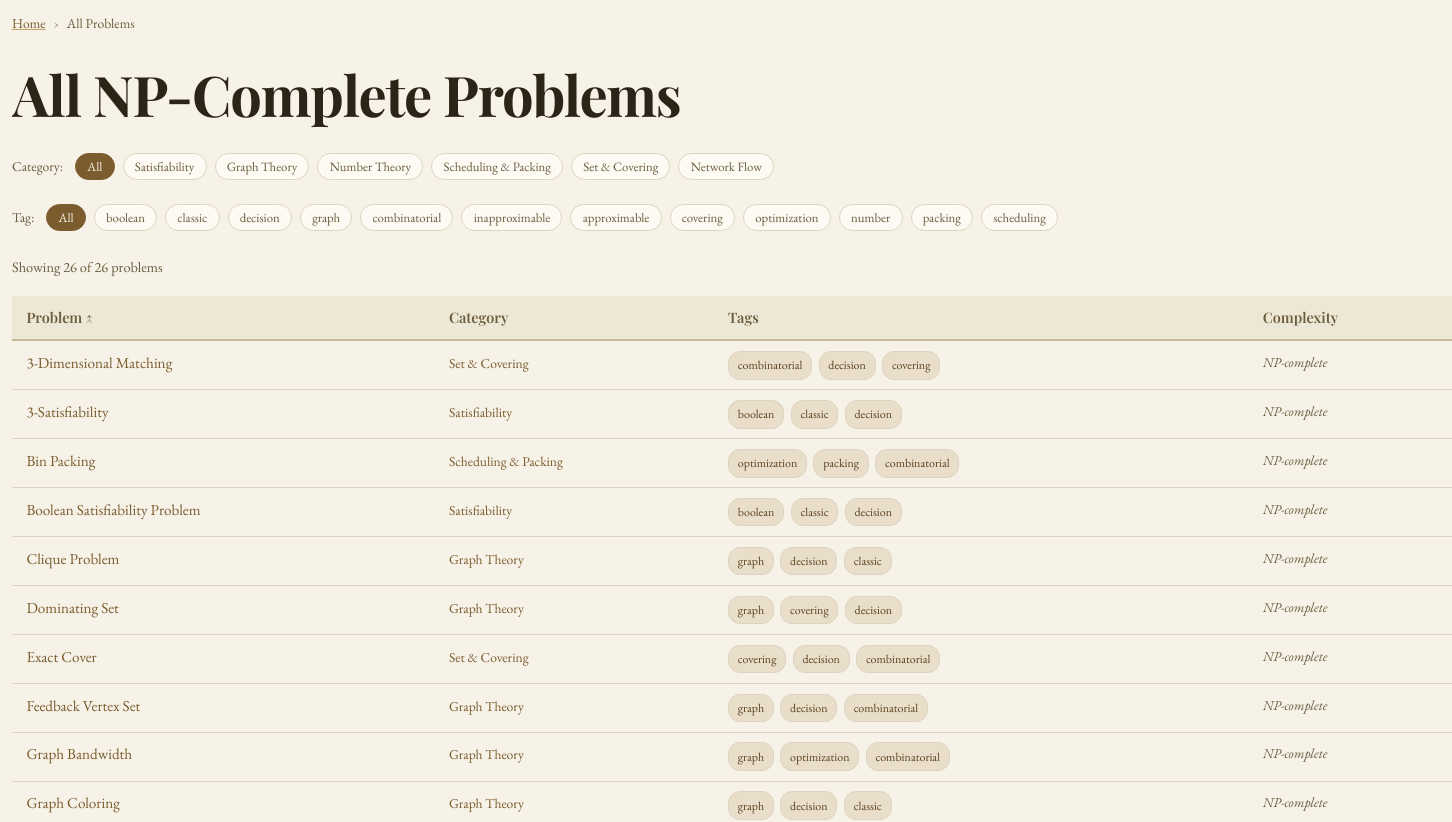
AllProblemsPage › sorts by name when Name column header is clicked
The image size is (1452, 822).
Initial state is name asc (↑). One click toggles to desc (↓).
Click the column heading "Problem ↑": (223, 318) [12,296,434,340]
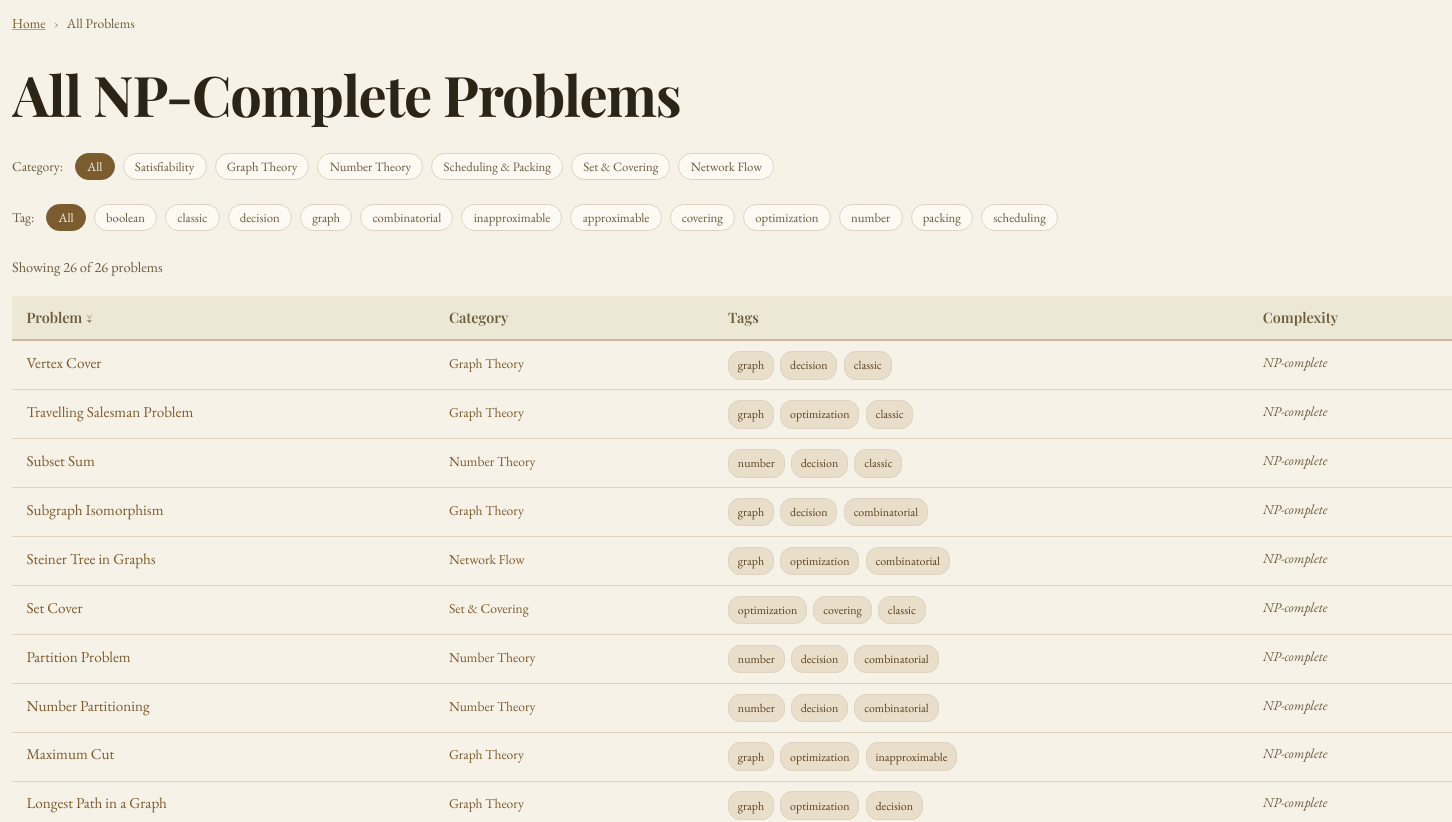
Expected: the column heading "Problem ↓" is shown, [12,296,434,340]
